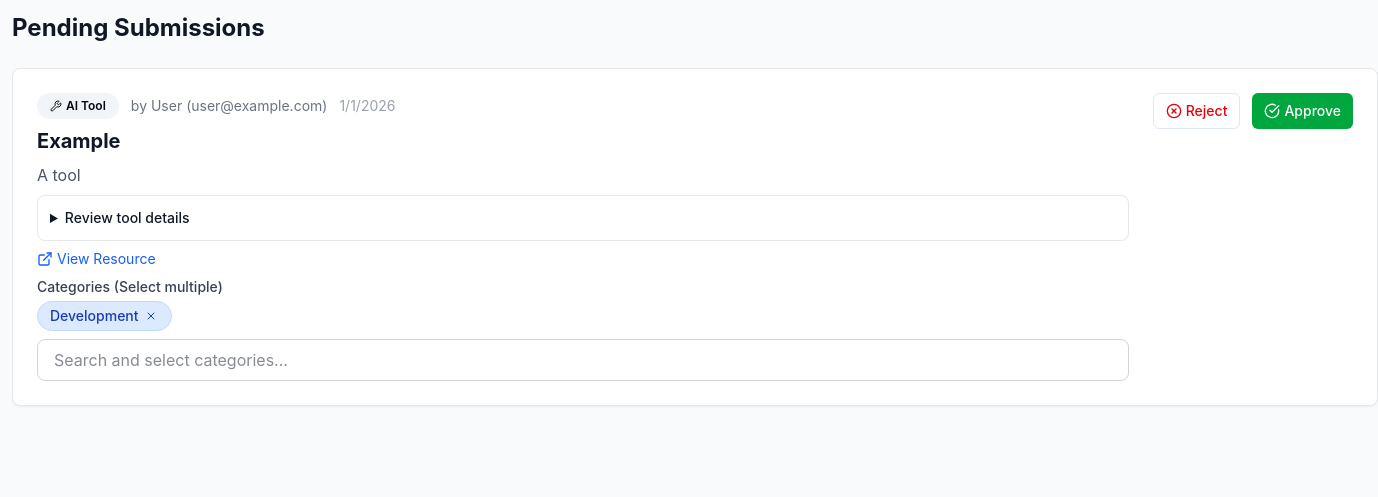
it: retains a pending submission and its selection when approval fails
Click the button "Approve". click: x=1303, y=111
box: [1252,93,1353,129]
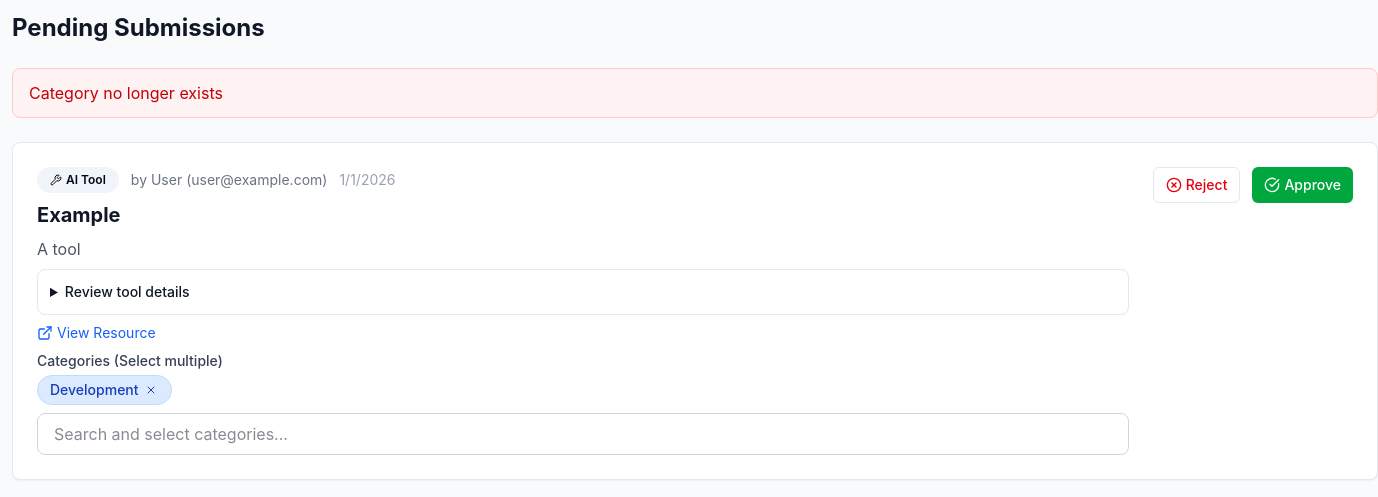
Expected: the heading "Example" is shown, [37,203,120,227]
Result: the text "Category no longer exists" is shown at [12,68,1377,118]
